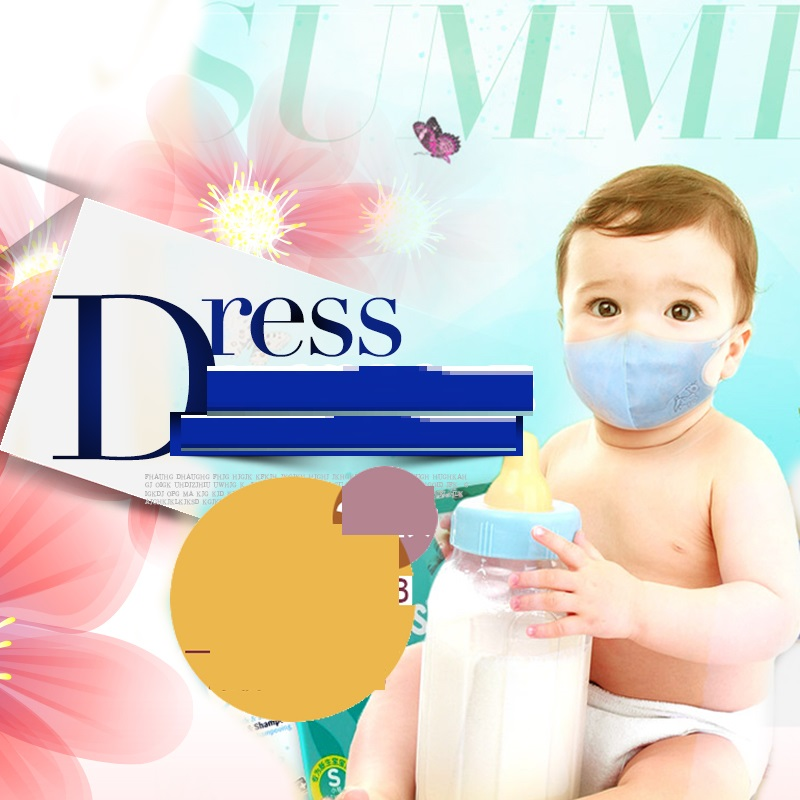face_mask: (565, 213, 729, 422)
